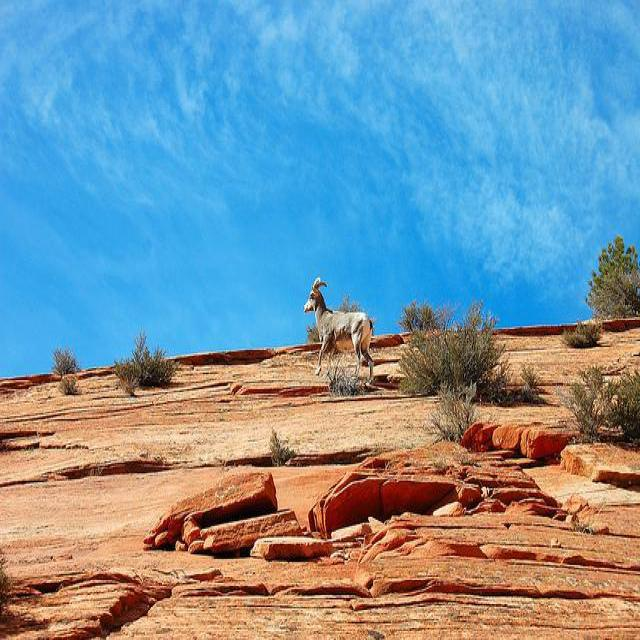Sheep: (303, 278, 378, 386)
